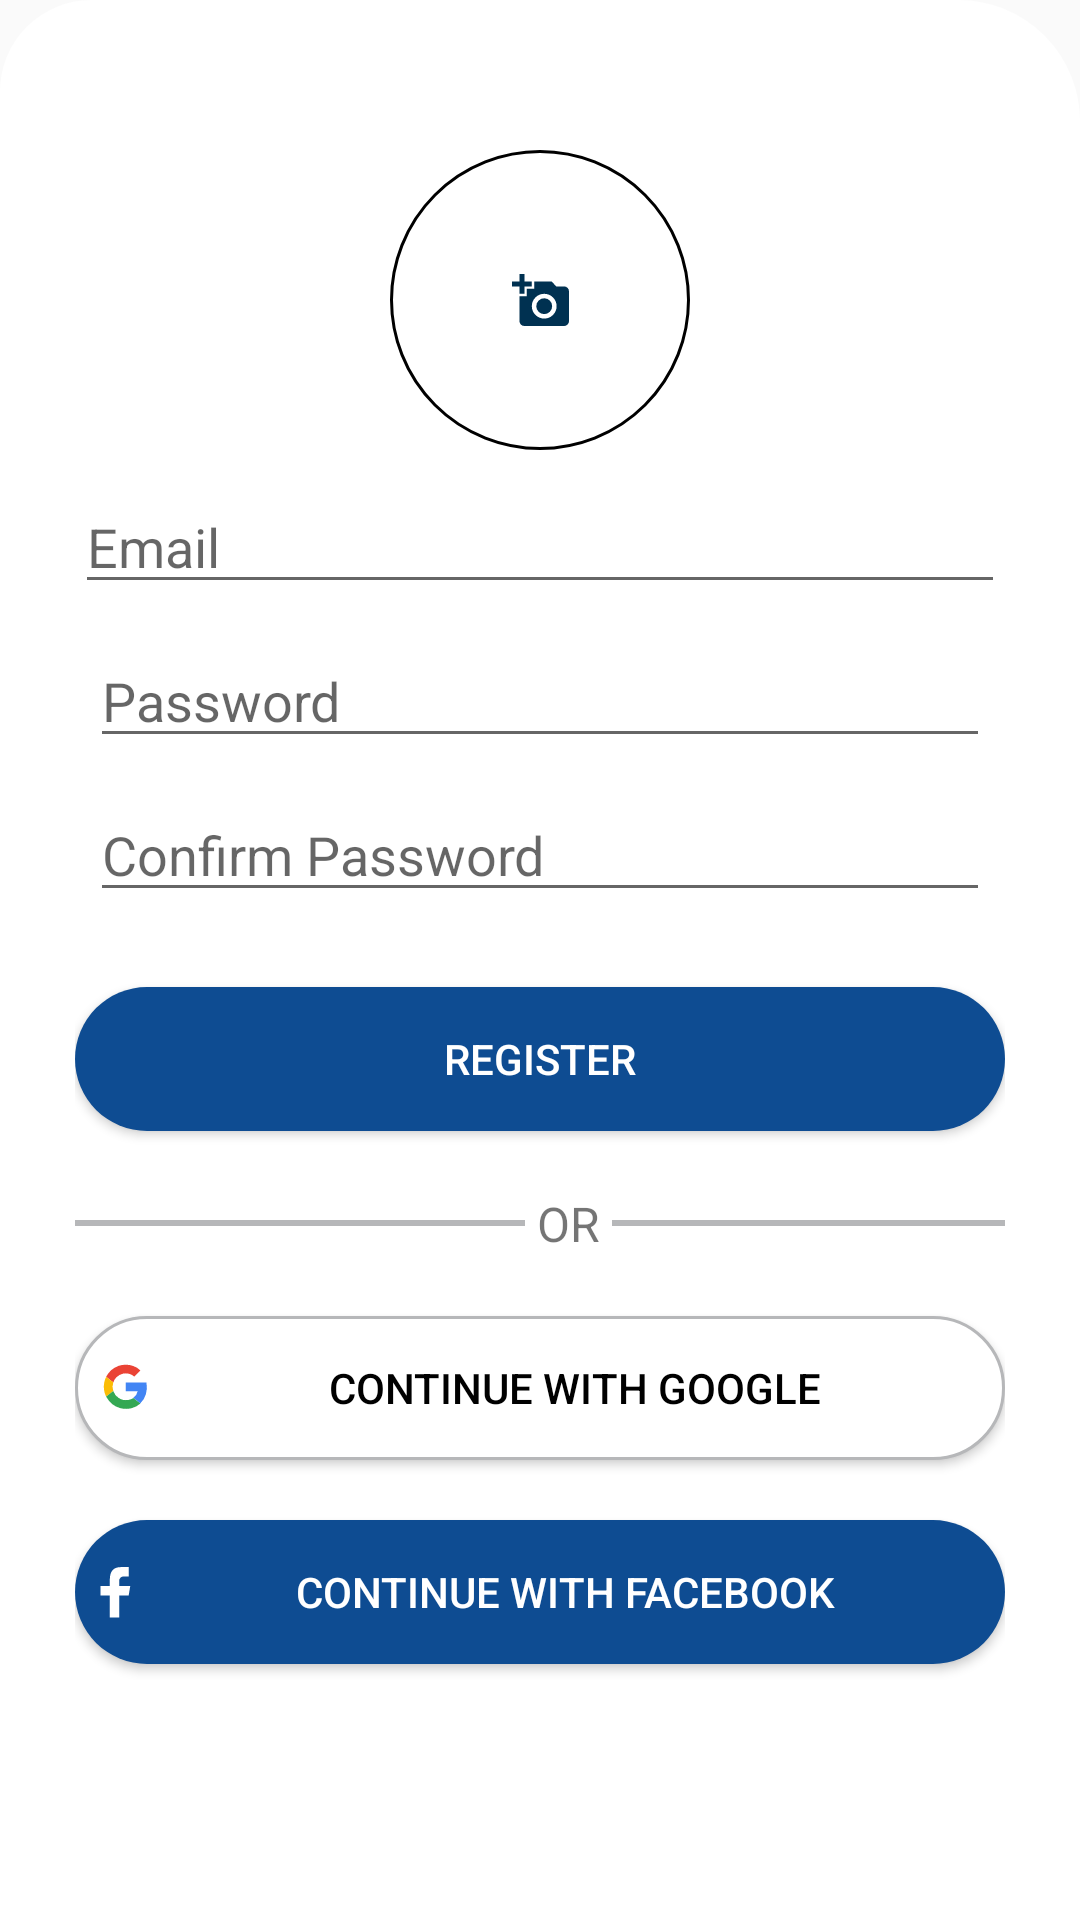

Icons on this 1080*1920 Android screen, each with its box as region(x1, y1, x2, y2):
add photo: region(390, 150, 690, 450)
